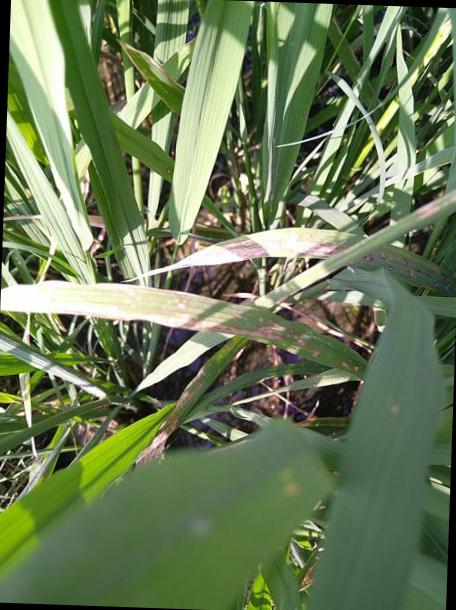Leaf Streak: (0, 281, 365, 373), (133, 349, 239, 466), (135, 228, 356, 278), (117, 40, 185, 113), (359, 245, 456, 296), (410, 190, 456, 216)
